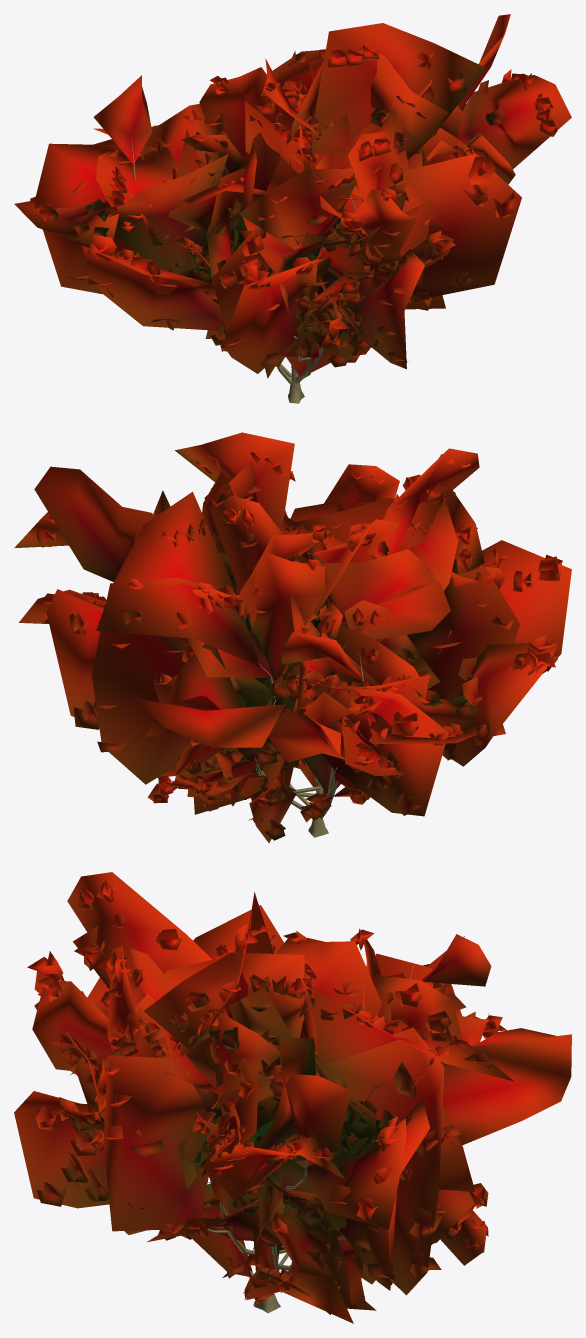
File: RoseBushBigRHEP_C.fbx
3 views of the same model, one above another, from view 1: azimuth 30°, elevation 25°; view 2: azimuth 150°, elevation 25°; view 3: azimuth 270°, elevation 25° (orthographic). The views are drawn at different scales.
Visible parts, largest first — view 1: RBBRHEPC-Leaves_LOD0, RBBRHEPC-Branches_LOD0; view 2: RBBRHEPC-Leaves_LOD0, RBBRHEPC-Branches_LOD0; view 3: RBBRHEPC-Leaves_LOD0, RBBRHEPC-Branches_LOD0.
Part boxes in pixels (box(x1,y1,x2,y2)): RBBRHEPC-Leaves_LOD0: box(14, 14, 571, 378); RBBRHEPC-Branches_LOD0: box(131, 136, 355, 403); RBBRHEPC-Leaves_LOD0: box(14, 432, 571, 843); RBBRHEPC-Branches_LOD0: box(255, 654, 363, 837); RBBRHEPC-Leaves_LOD0: box(14, 872, 571, 1323); RBBRHEPC-Branches_LOD0: box(208, 961, 414, 1313).
Size of what is drawn, in the model's own units: 3.51 by 2.55 by 2.99.
